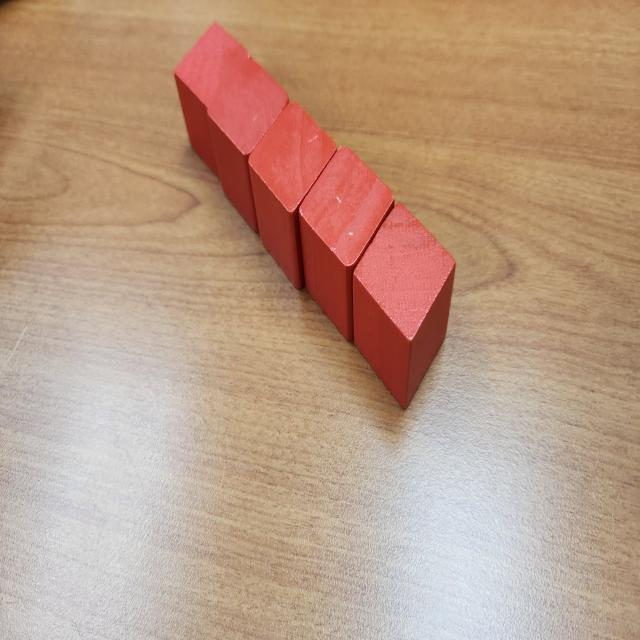red: (352, 200, 456, 408), (298, 146, 395, 344), (248, 102, 336, 288), (206, 58, 289, 234), (174, 22, 249, 183)
